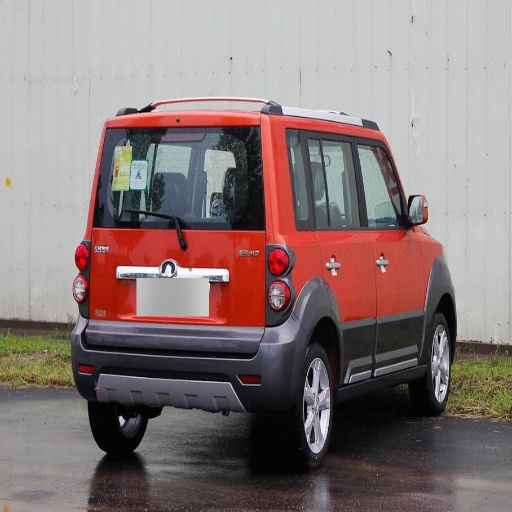back_bumper: (71, 317, 305, 404)
back_right_door: (285, 128, 376, 382)
trunk: (92, 221, 314, 353)
